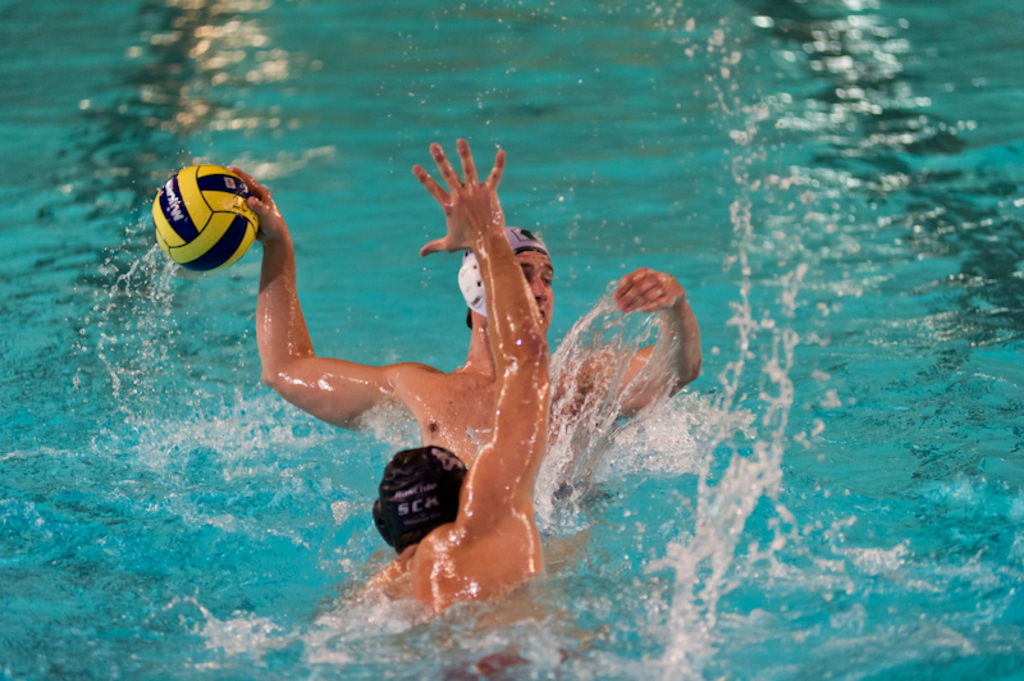Human_hand: (410, 140, 502, 256), (228, 164, 295, 254), (611, 266, 682, 312)
